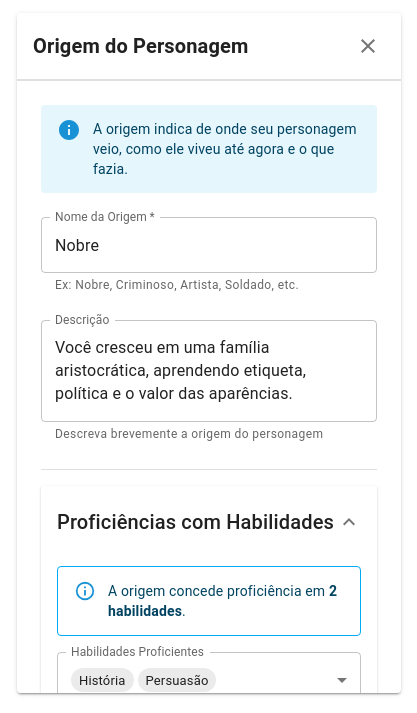
OrigemSidebar › Validação › deve exibir sucesso quando validação habilitada e dados válidos
Replace the text in the field labelled "Nome da Origem *" with "Nobre Atualizado": (209, 245) [41,217,377,273]
(page scrolled)
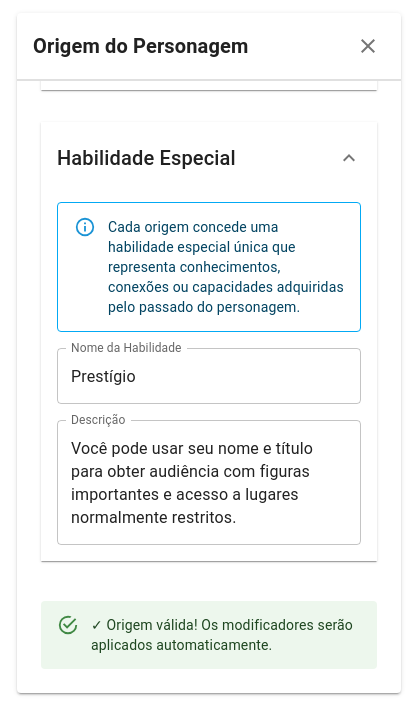
Expected: the text "Origem válida!" is shown, [91,617,353,653]
